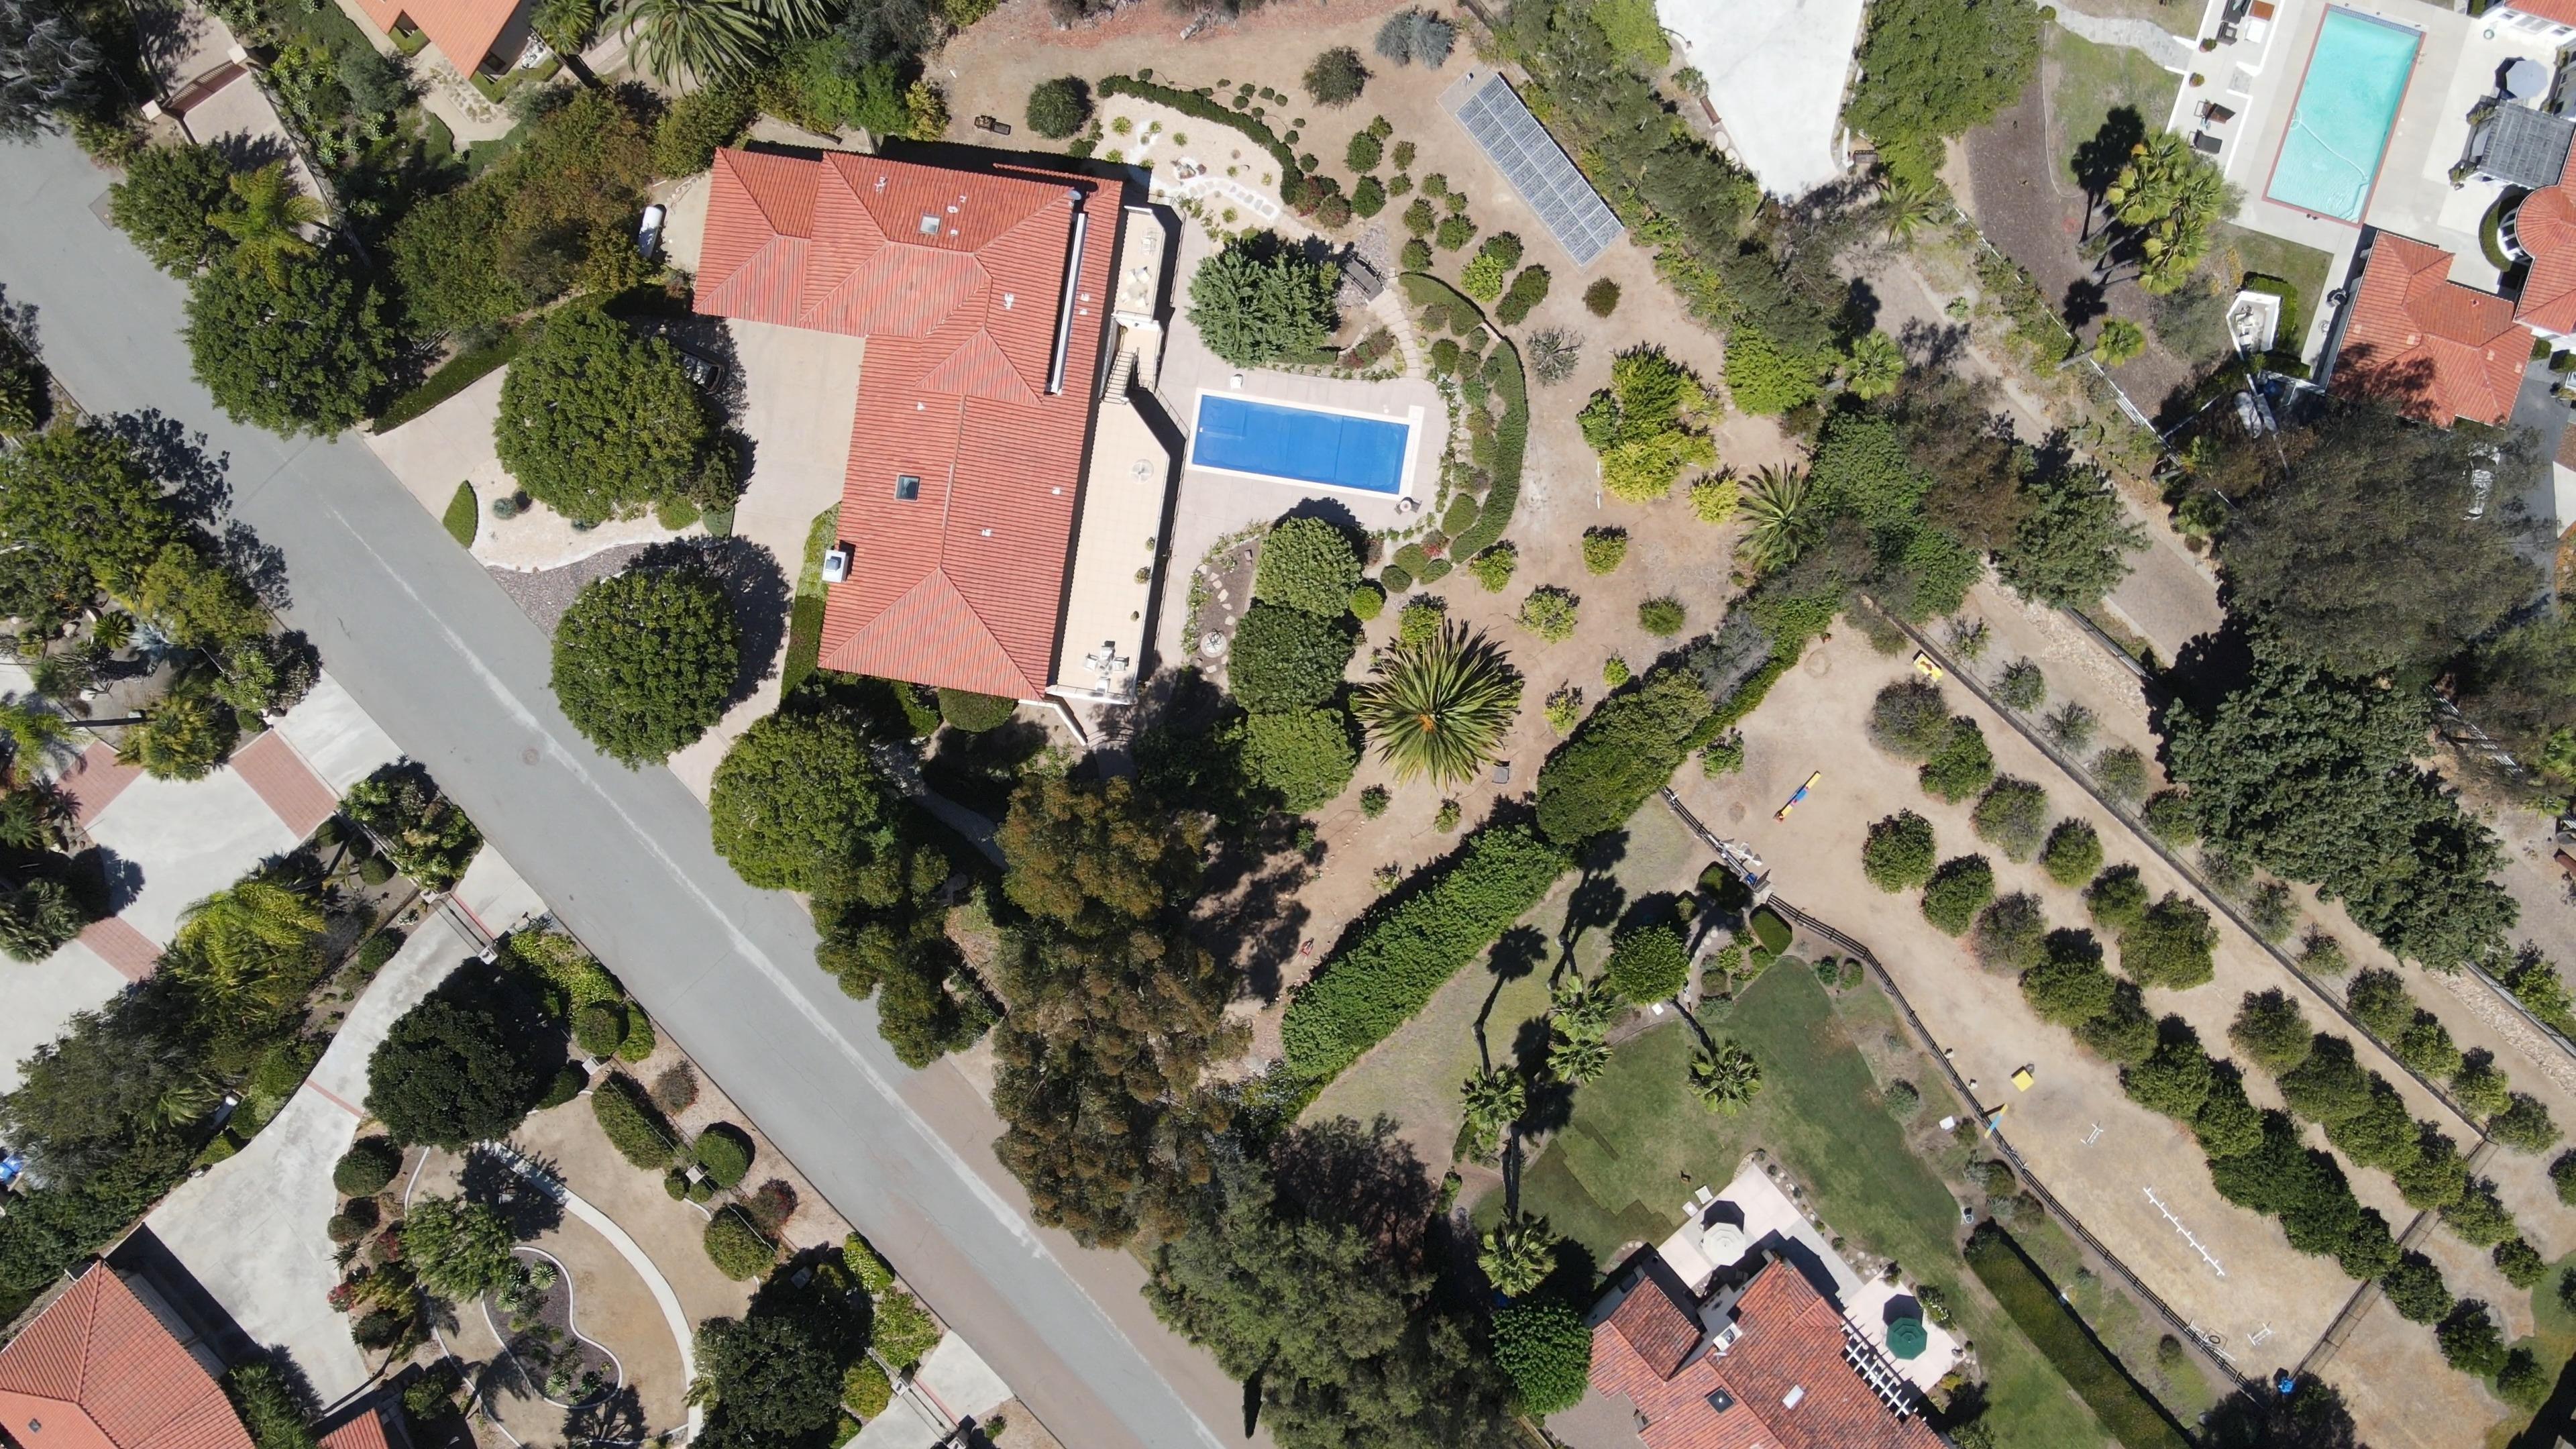panel: (1454, 73, 1628, 269)
